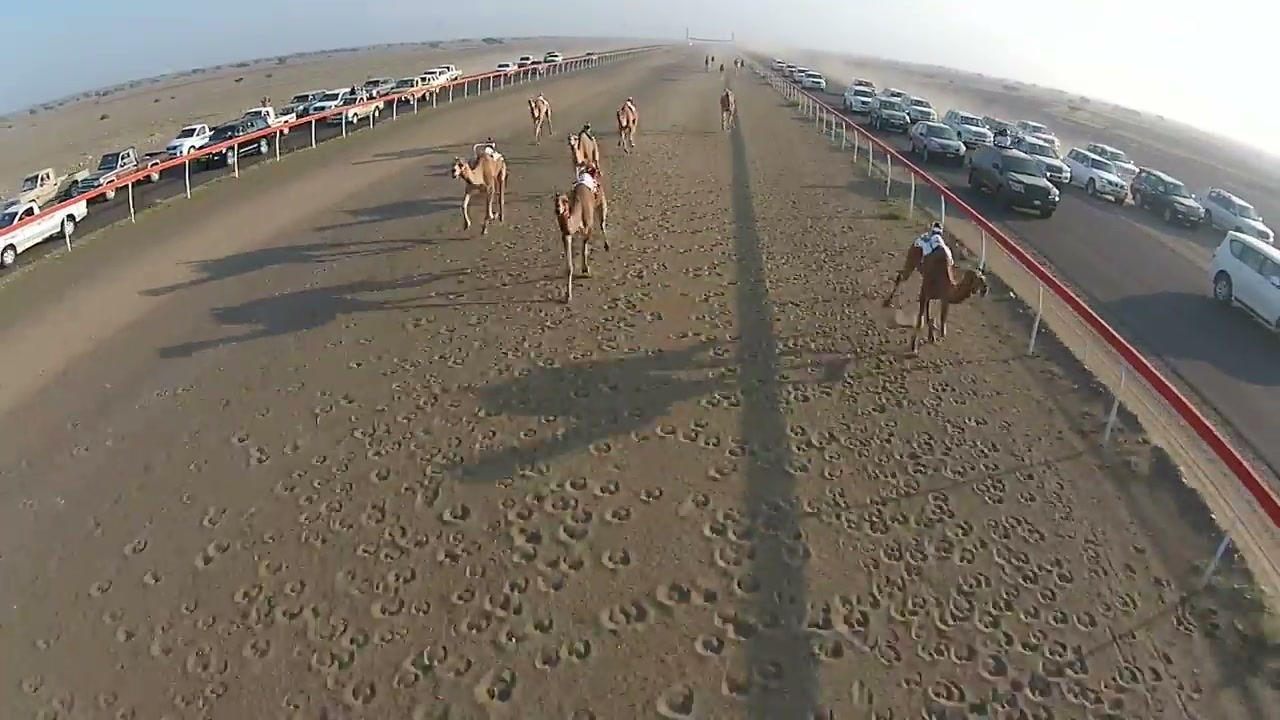animal_foot_print: (0, 81, 1279, 719), (601, 599, 654, 632), (655, 685, 697, 719)
